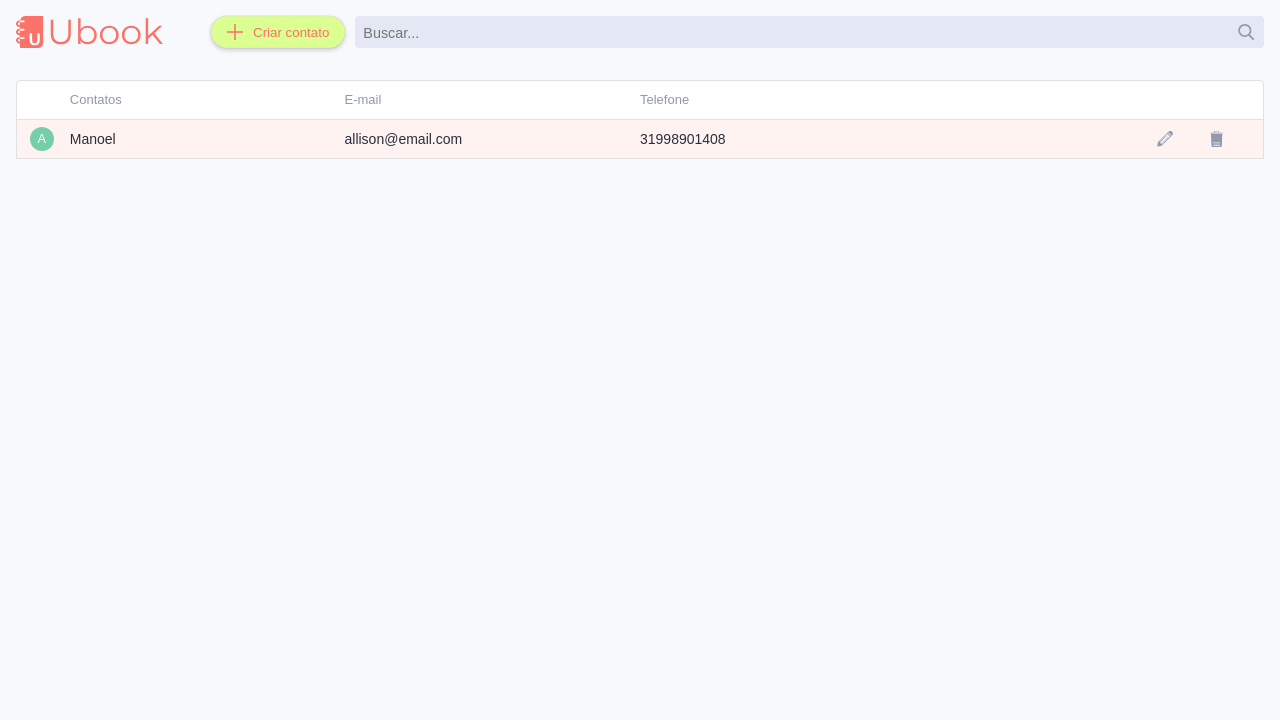
Test: My First Test › Delete the item page
The image size is (1280, 720).
Expected: the text "Manoel" is shown, [70,132,116,146]
Expected: the text "allison@email.com" is shown, [344,131,462,147]
Click the button named "Deletar o contato": [1217, 139] box [1203,130,1231,148]
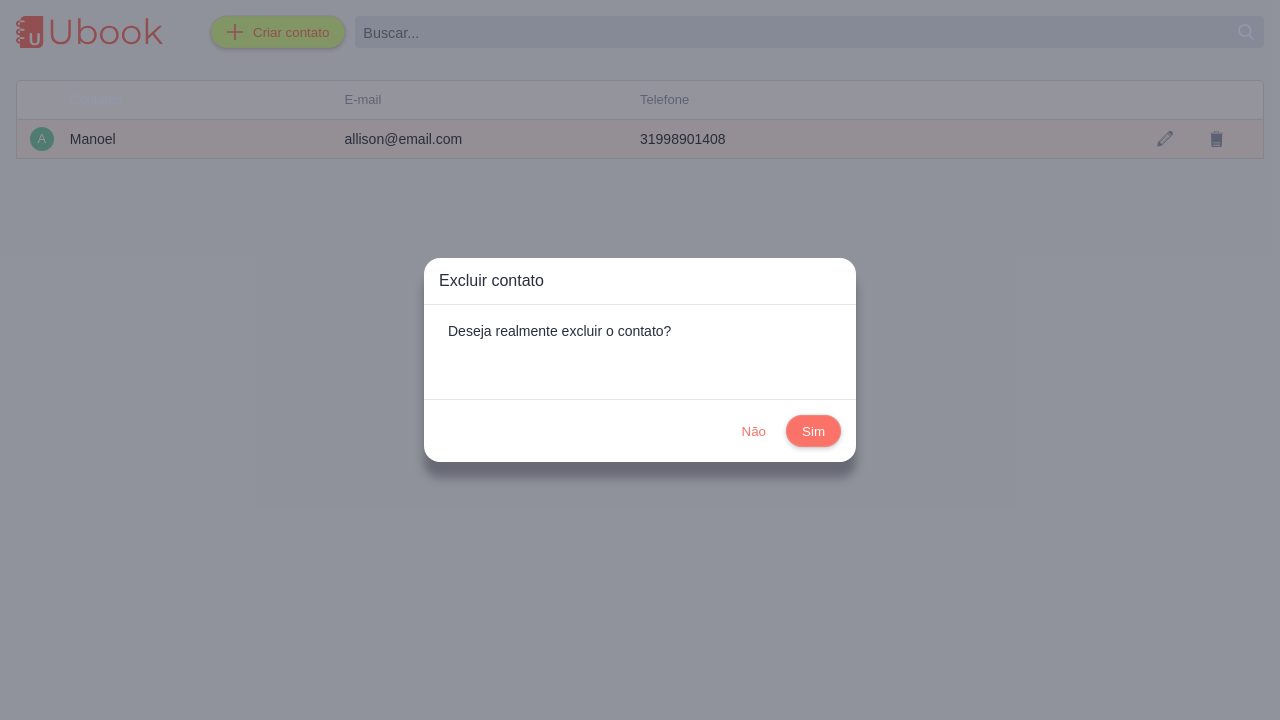
Expected: the text "Deseja realmente excluir o contato?" is shown, [424,304,856,400]
Click the button "Sim": [814, 431] box [786,415,841,447]
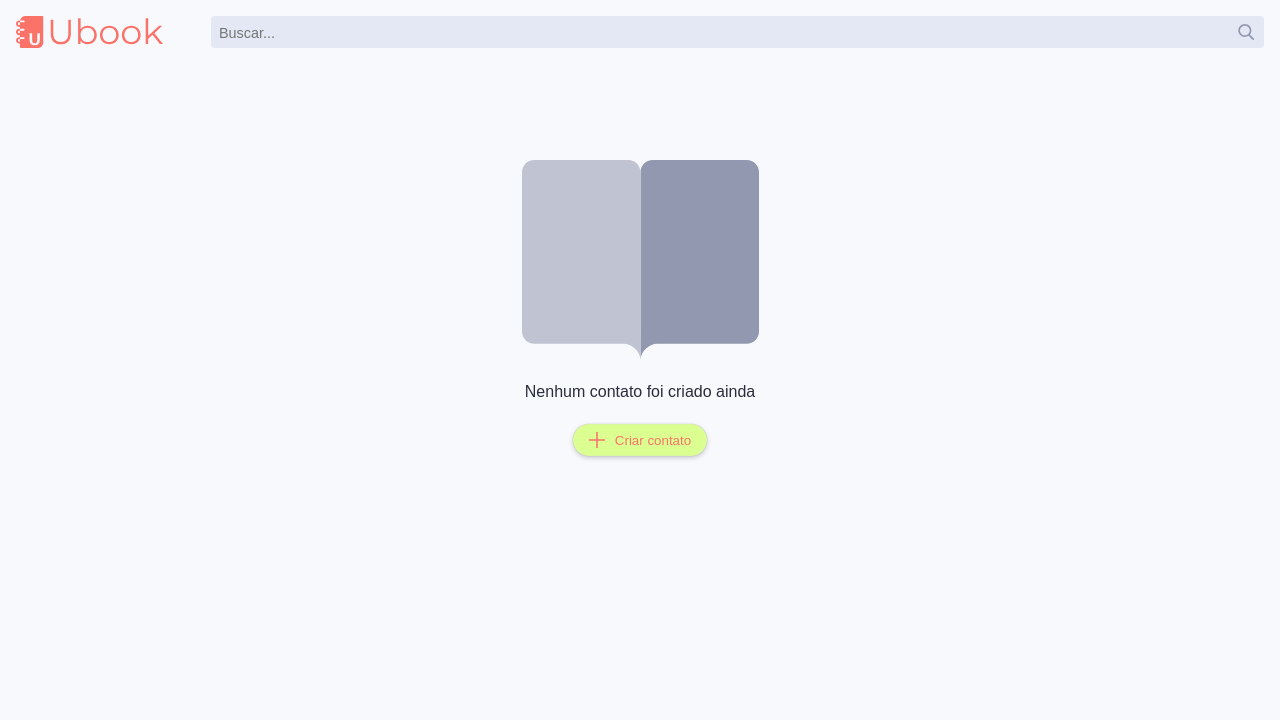
Expected: the text "Nenhum contato foi criado ainda" is shown, [525,384,755,400]
